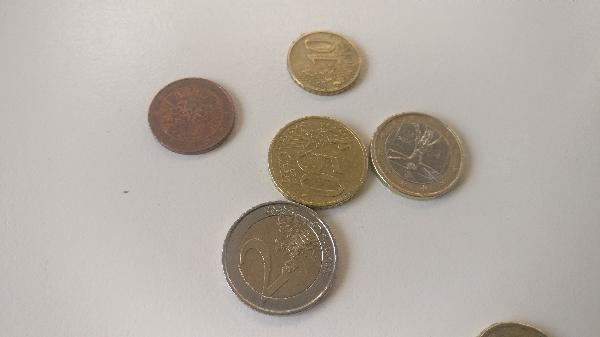Fifty Cent: (265, 110, 367, 211)
Five Cent: (145, 76, 236, 159)
One Euro: (370, 110, 465, 200)
Ten Cent: (282, 29, 369, 100)
Two Euro: (224, 202, 343, 313)
